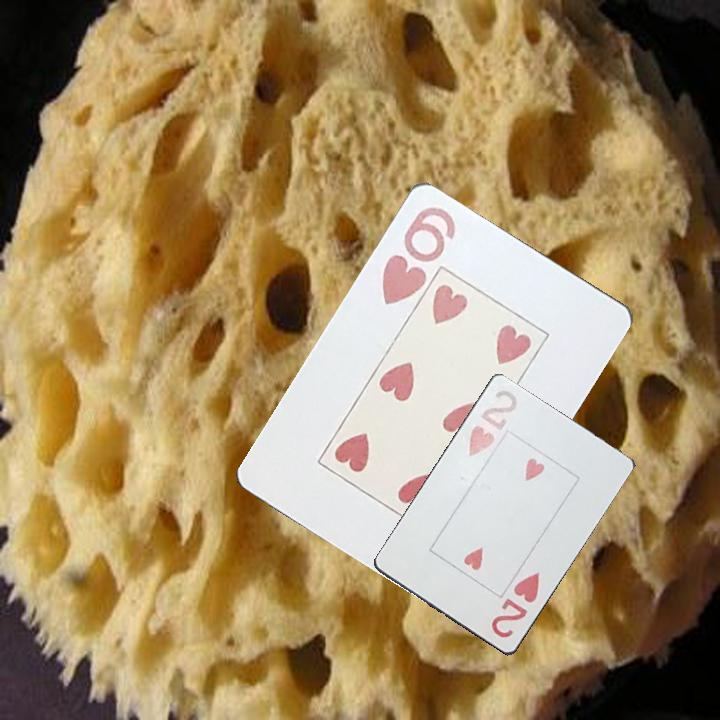2h: (463, 387, 521, 460), (488, 569, 543, 641)
6h: (377, 202, 459, 308)
